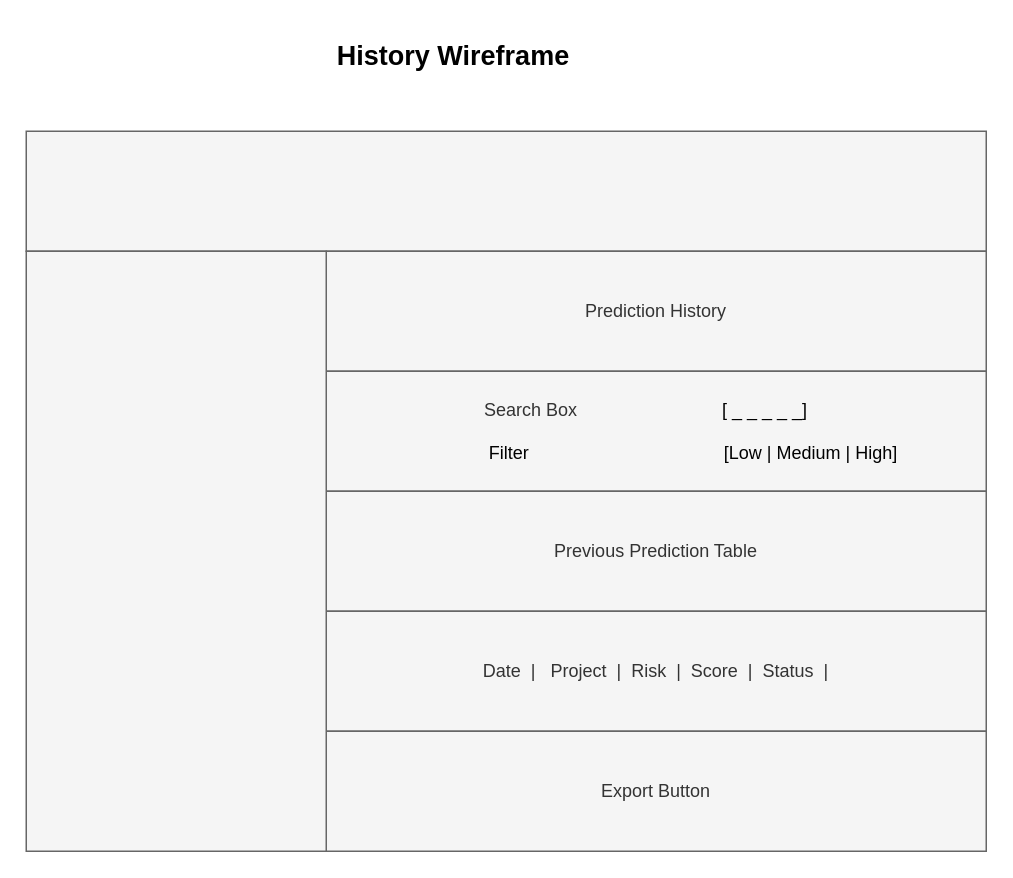
Image size: 1013x878. Some labels were removed from this diagram. The shapes that lost their labels are listed below. From the top down, each one's centre as x and y in pixels, then its label:
(x=505, y=190): Top Navigation
(x=175, y=550): Sidebar
